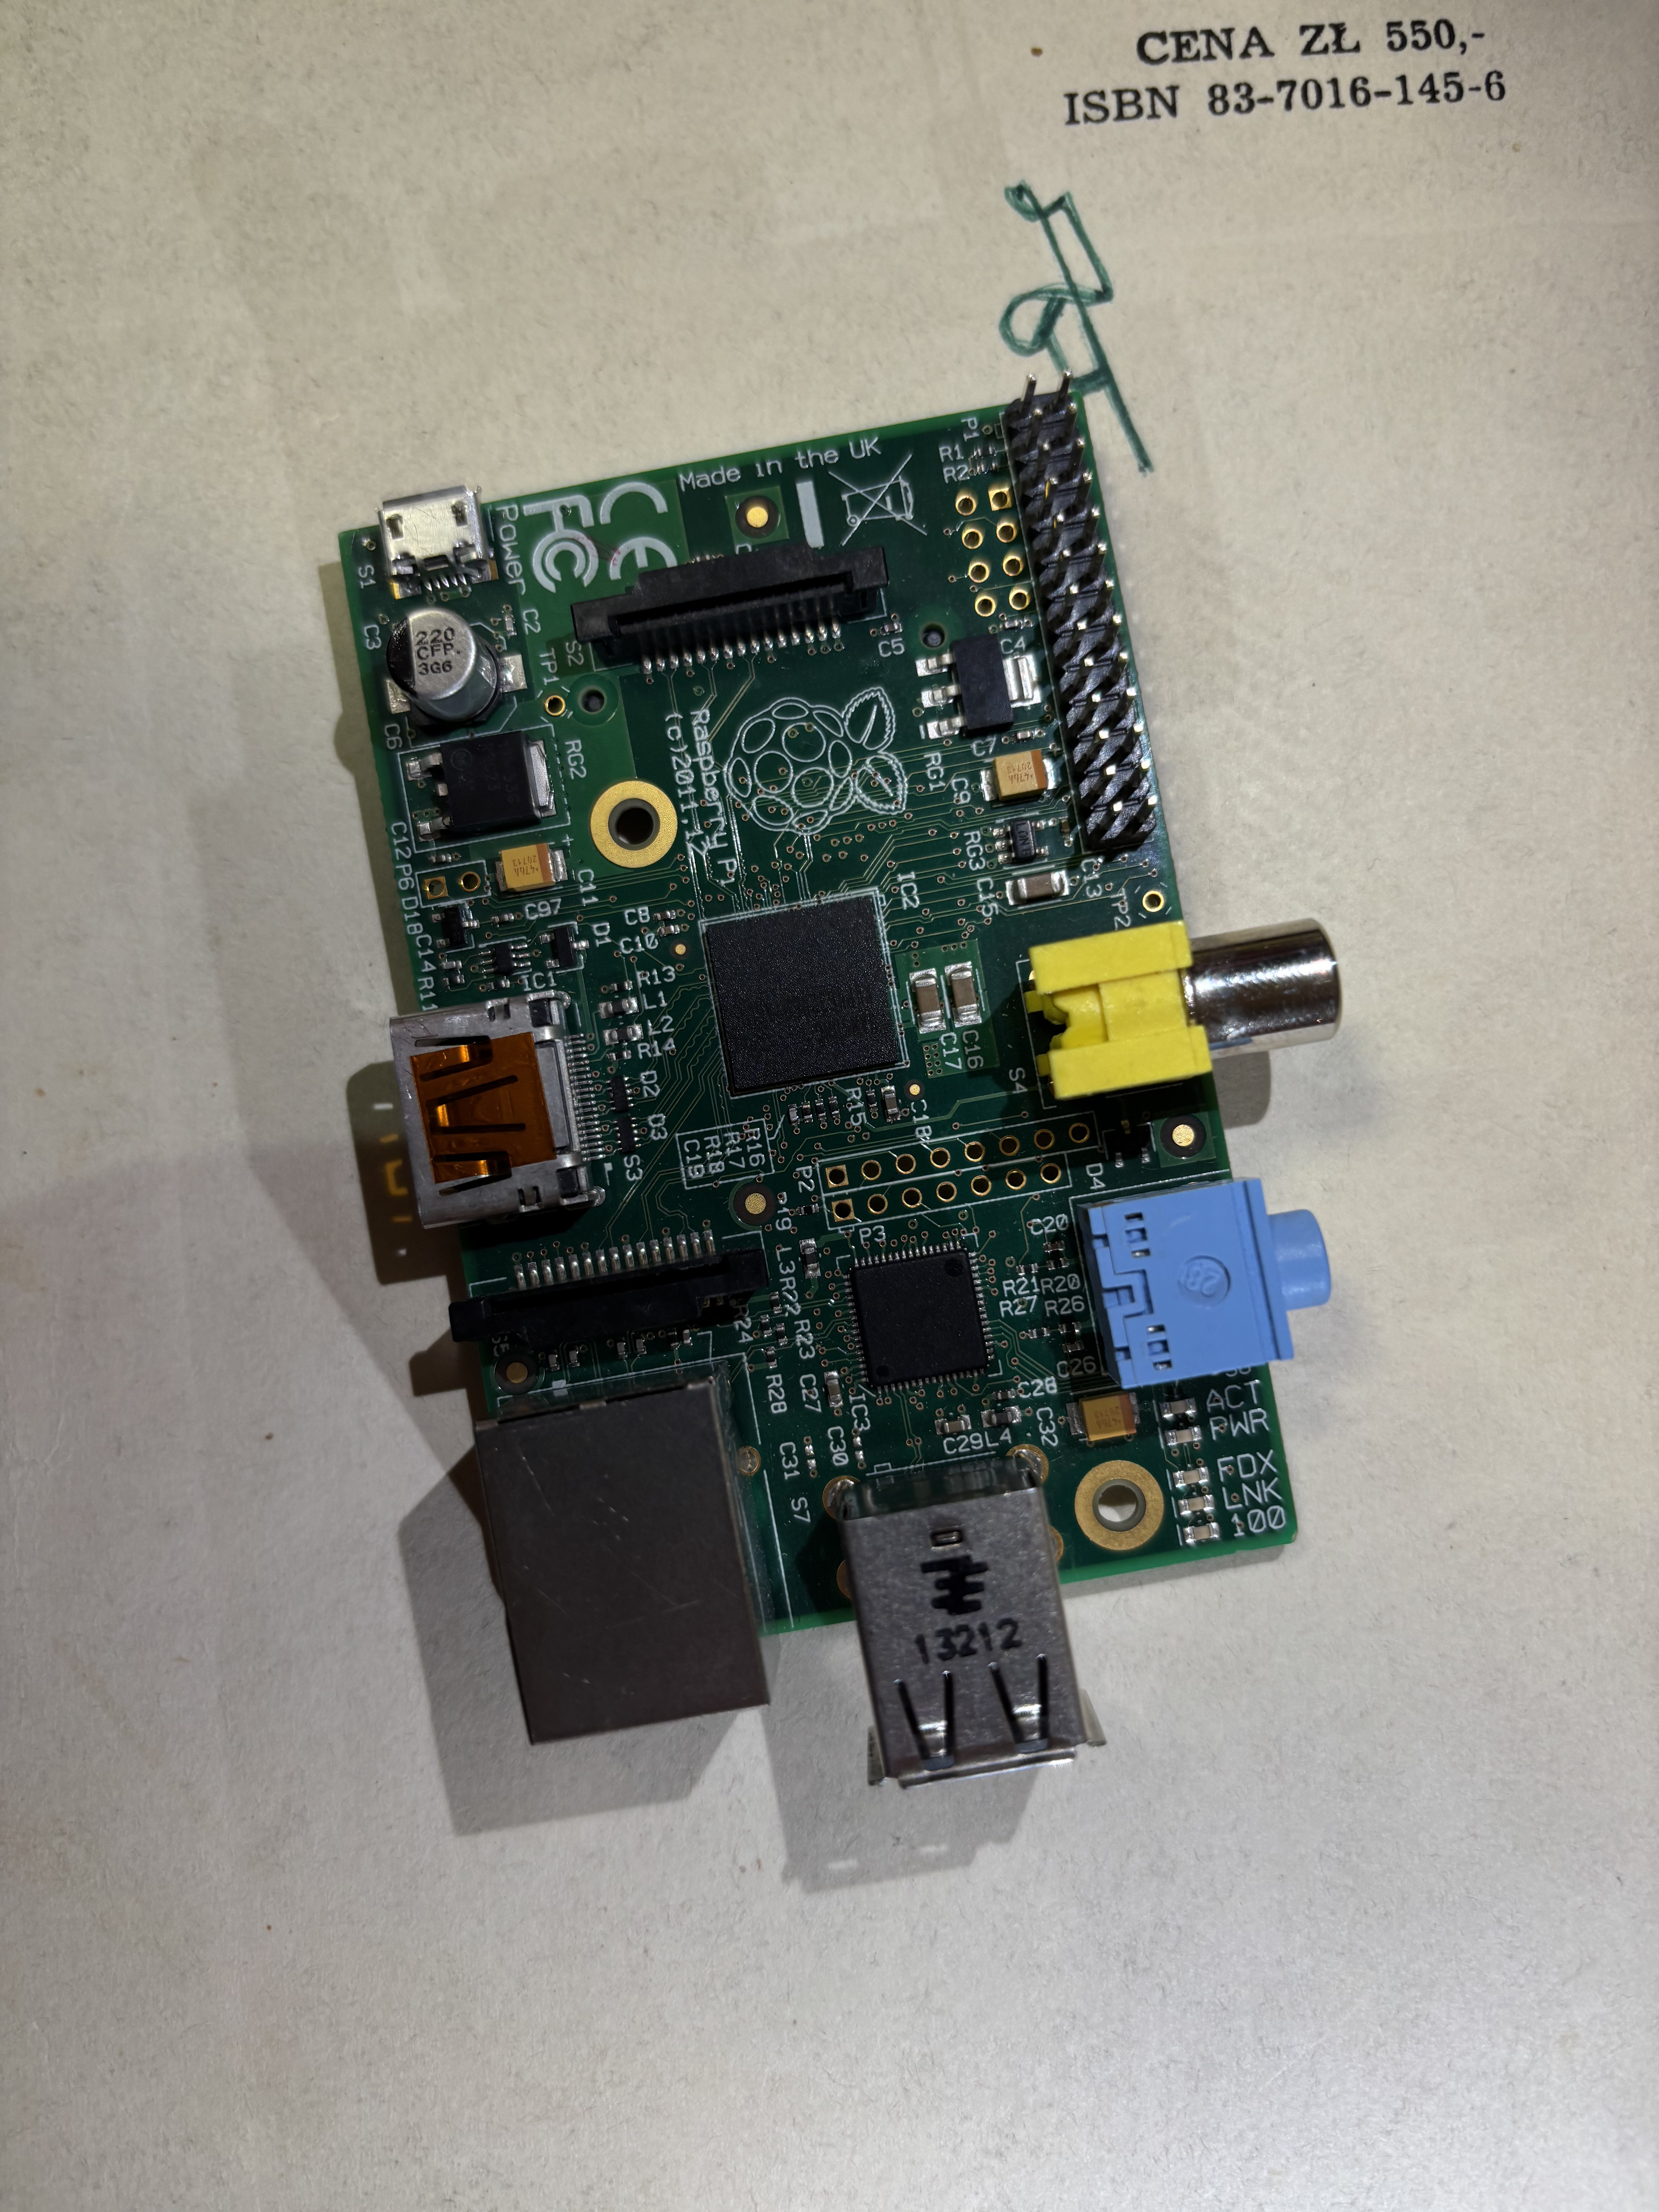kondensator: (990, 747, 1049, 803), (1079, 1392, 1138, 1442), (500, 841, 558, 892), (946, 967, 981, 1022), (1011, 871, 1065, 904), (444, 629, 495, 664), (911, 974, 945, 1024), (880, 1089, 901, 1115), (826, 1376, 843, 1404), (939, 1418, 967, 1433), (1002, 617, 1025, 632), (882, 620, 903, 636), (1058, 817, 1073, 836), (502, 615, 516, 634), (1014, 730, 1035, 742), (491, 913, 512, 925), (430, 852, 450, 864), (788, 1106, 800, 1123), (545, 1353, 558, 1369), (1066, 1341, 1082, 1353), (995, 1390, 1012, 1400), (1046, 1242, 1063, 1252), (568, 1350, 579, 1366), (615, 1341, 626, 1357), (634, 1338, 645, 1353), (681, 1329, 692, 1345), (660, 925, 674, 935), (655, 911, 669, 920), (443, 961, 457, 970)
